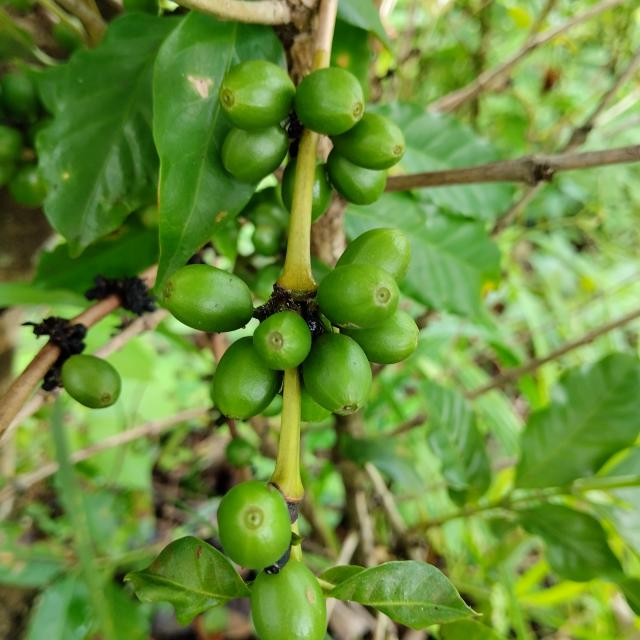green: (217, 482, 291, 571), (162, 264, 254, 333), (250, 560, 326, 640), (212, 336, 282, 421), (302, 333, 372, 416), (218, 59, 296, 130), (317, 264, 400, 329), (294, 66, 365, 135), (340, 308, 420, 364), (331, 112, 406, 169), (336, 228, 411, 284), (221, 124, 289, 183), (252, 311, 311, 371), (327, 148, 387, 205), (60, 354, 121, 409), (311, 157, 332, 222), (281, 158, 297, 211)
